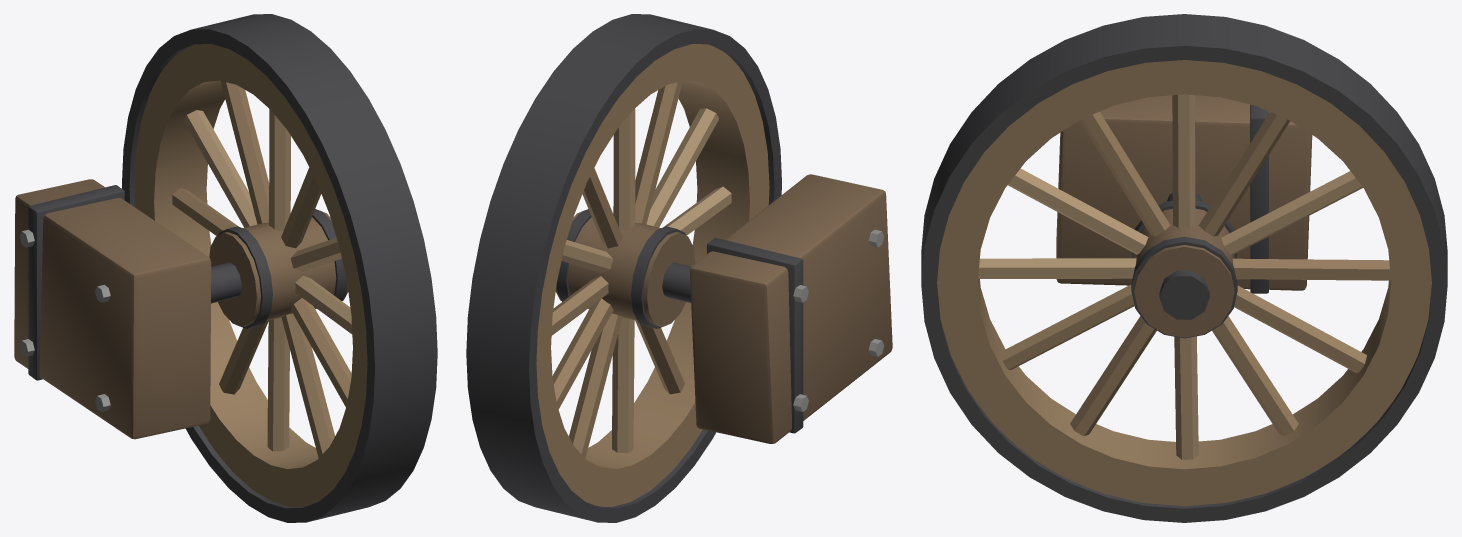
File: wood_wheel.glb
3 views of the same model, side by side, from view 1: azimuth 30°, elevation 25°; view 2: azimuth 150°, elevation 25°; view 3: azimuth 270°, elevation 25° (orthographic). The views are drawn at different scales.
Visible parts, largest first — view 1: Wheel, Part; view 2: Wheel, Part; view 3: Wheel, Part.
Boxes of the visible parts, x1,y1,x2,y2 form: Wheel: (122,14,437,522); Part: (14,179,241,439); Wheel: (466,14,781,522); Part: (662,174,892,443); Wheel: (921,14,1447,522); Part: (1056,95,1312,293).
Bounding box in the file's own units: 0.529 × 0.84 × 0.84.
